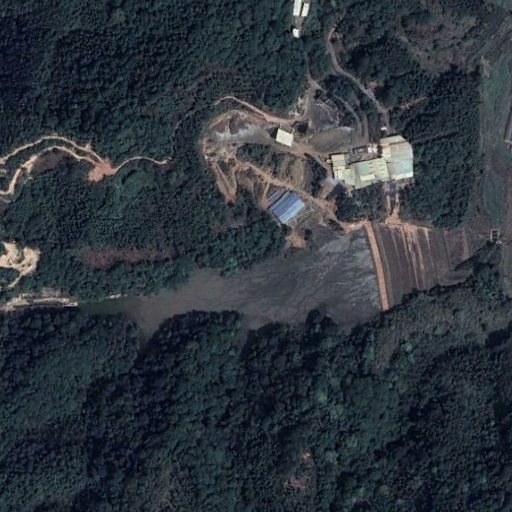tp: (79, 217, 474, 345)
